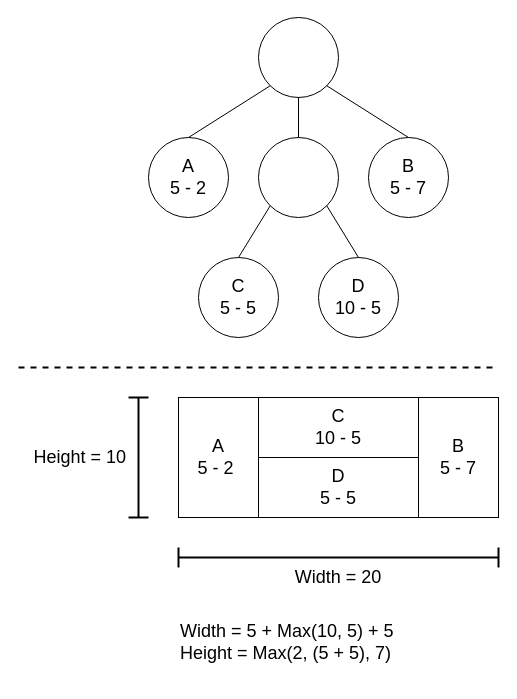
Image size: 517x699. Some labels were removed from this diagram. The centre of each missing label's shape, as x and y in pixels:
"StackLayout Horizontal" goes at point 298,57.
"StackLayout Vertical" goes at point 298,177.
